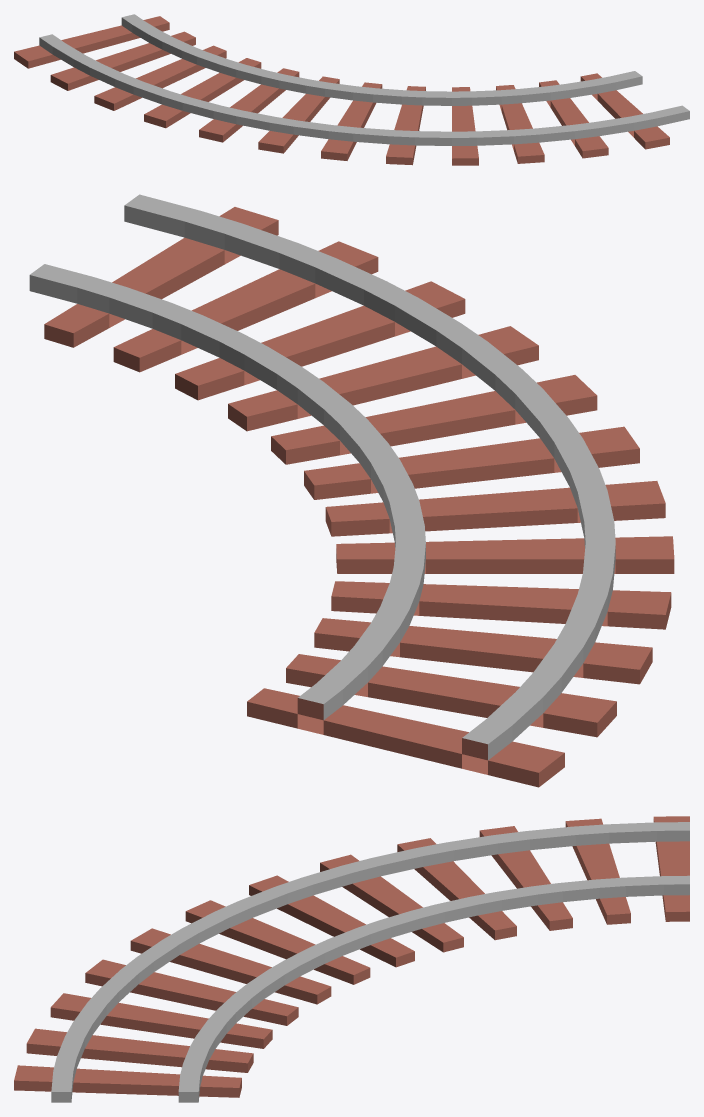
File: railBend.fbx
The picture shows the model from 3 angles, top to bottom: view 1: azimuth 30°, elevation 25°; view 2: azimuth 150°, elevation 25°; view 3: azimuth 270°, elevation 25°; orthographic projection. The views are drawn at different scales.
Parts seen in each view (by area): view 1: railBend; view 2: railBend; view 3: railBend.
Part boxes in pixels (left/top/right/bottom): railBend: left=14, top=14, right=689, bottom=165; railBend: left=29, top=194, right=674, bottom=787; railBend: left=14, top=816, right=689, bottom=1102.
Size of the model in its own units: 4.49 by 0.1508 by 4.48.
